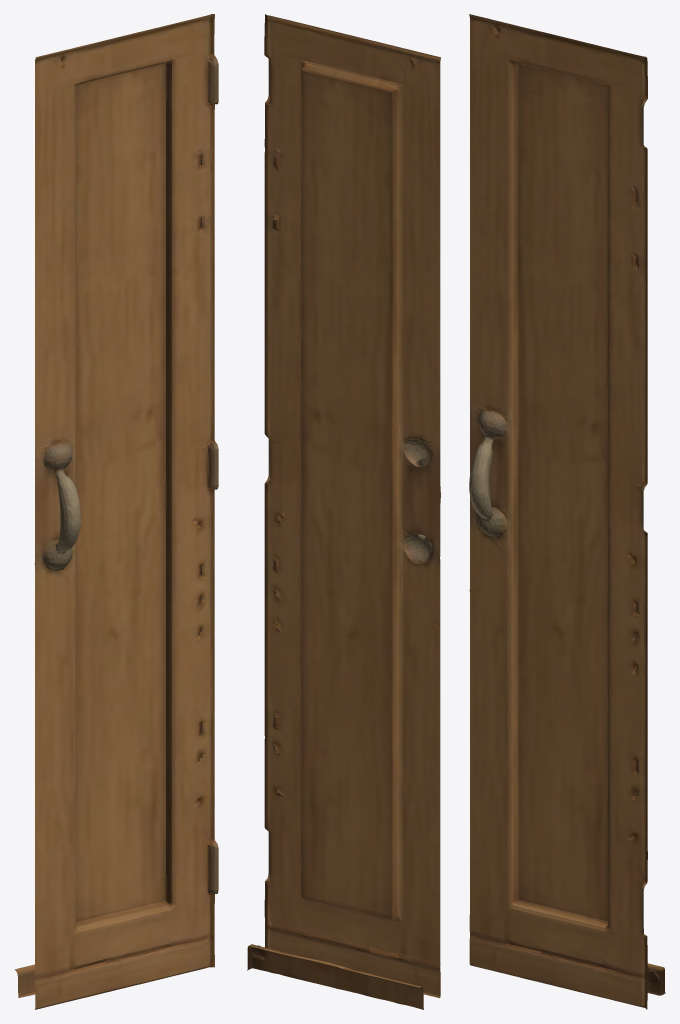
File: door_right.glb
3 views of the same model, side by side, from view 1: azimuth 30°, elevation 25°; view 2: azimuth 150°, elevation 25°; view 3: azimuth 330°, elevation 25° (orthographic).
Parts seen in each view (by area): view 1: source_surface_0; view 2: source_surface_0; view 3: source_surface_0.
Boxes of the visible parts, x1,y1,x2,y2 form: source_surface_0: [14, 14, 218, 1009]; source_surface_0: [247, 14, 440, 1009]; source_surface_0: [469, 14, 665, 1009].
Size of the model in its own units: 0.7833 by 3.99 by 0.2972.
Materials: 1 (1 with a texture image).
